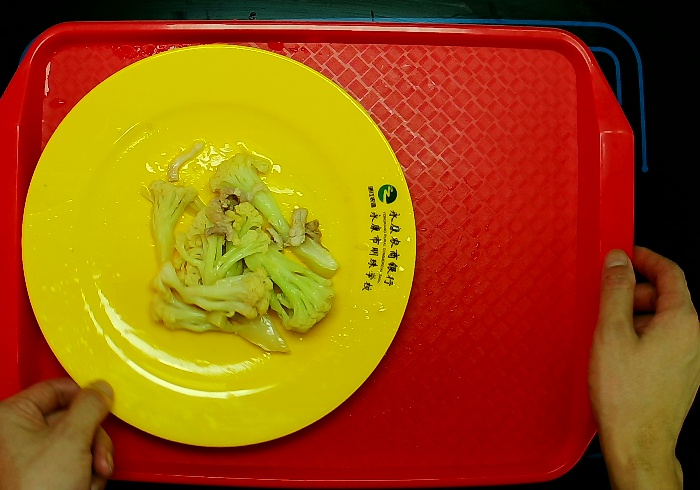YKMZ-Huang_Se_Mian_Pan: (19, 43, 418, 450)
